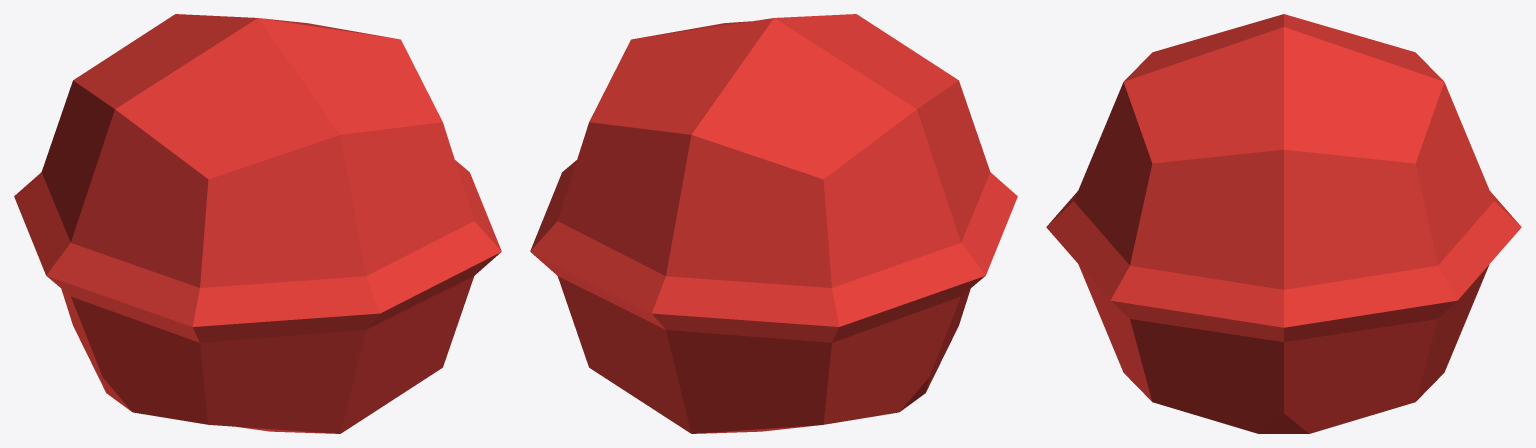
File: SM_Jingle_Bell_Christmas.fbx
3 renders of one model, left to right at view 1: azimuth 30°, elevation 25°; view 2: azimuth 150°, elevation 25°; view 3: azimuth 270°, elevation 25°, orthographic. The views are drawn at different scales.
Parts seen in each view (by area): view 1: jingle-bell-christmas; view 2: jingle-bell-christmas; view 3: jingle-bell-christmas.
Boxes of the visible parts, <box> form: jingle-bell-christmas: <box>14,14,501,433</box>; jingle-bell-christmas: <box>530,14,1017,433</box>; jingle-bell-christmas: <box>1046,14,1521,433</box>.
Size of the model in its own units: 0.0461 by 0.042 by 0.0461.
